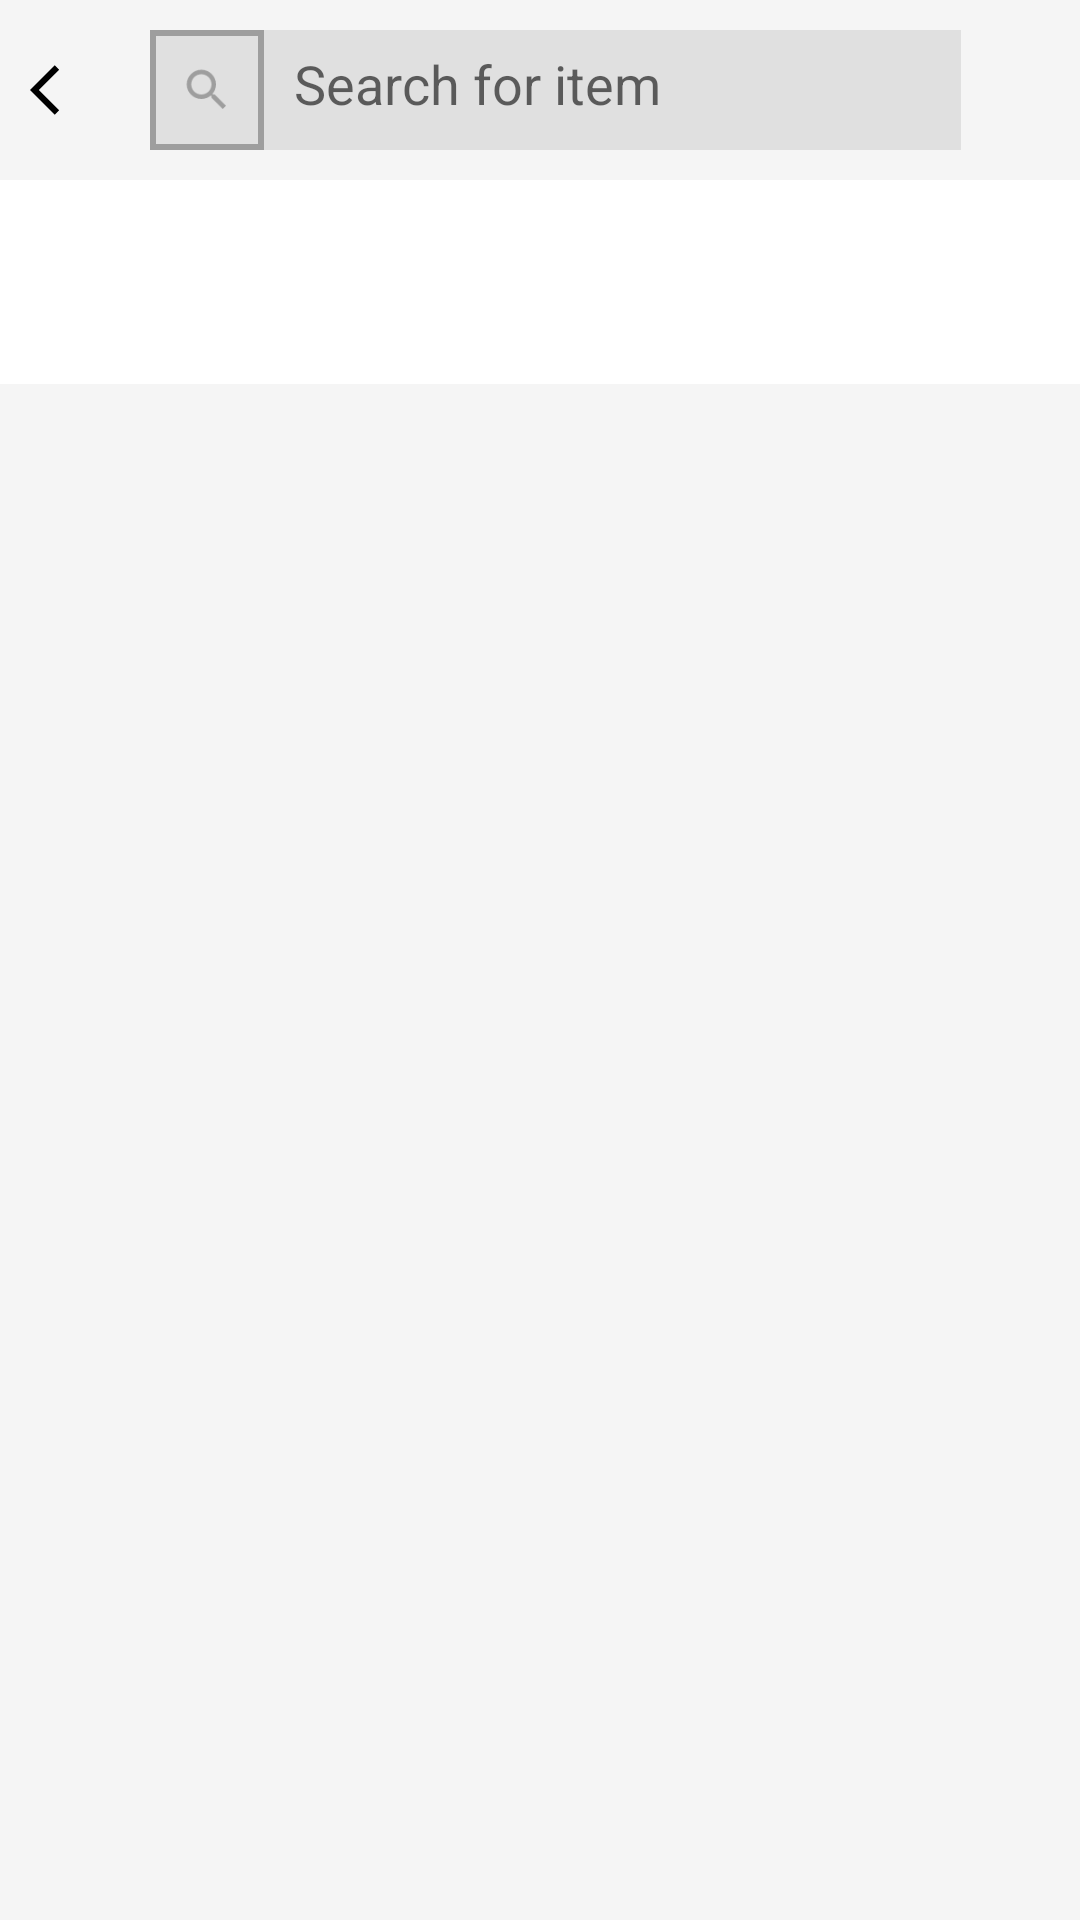

Locate icon controls on the screen. Image size 1080*1920, boxes as (x1, y1, x2, y2).
back: (30, 65, 59, 115)
